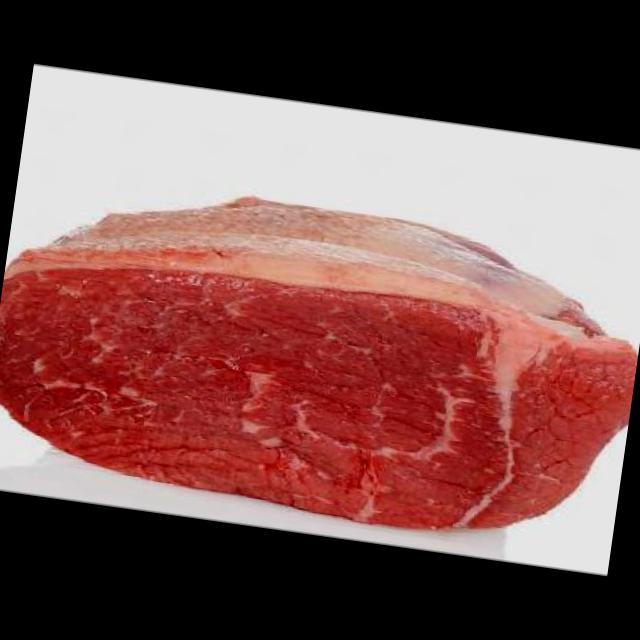beef: (0, 160, 640, 559)
